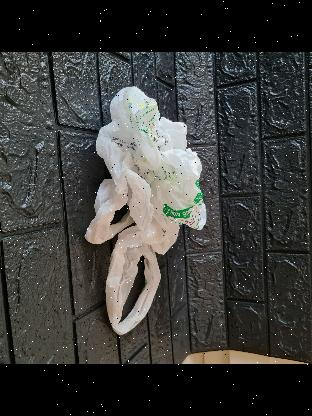Others: (82, 87, 209, 337)
